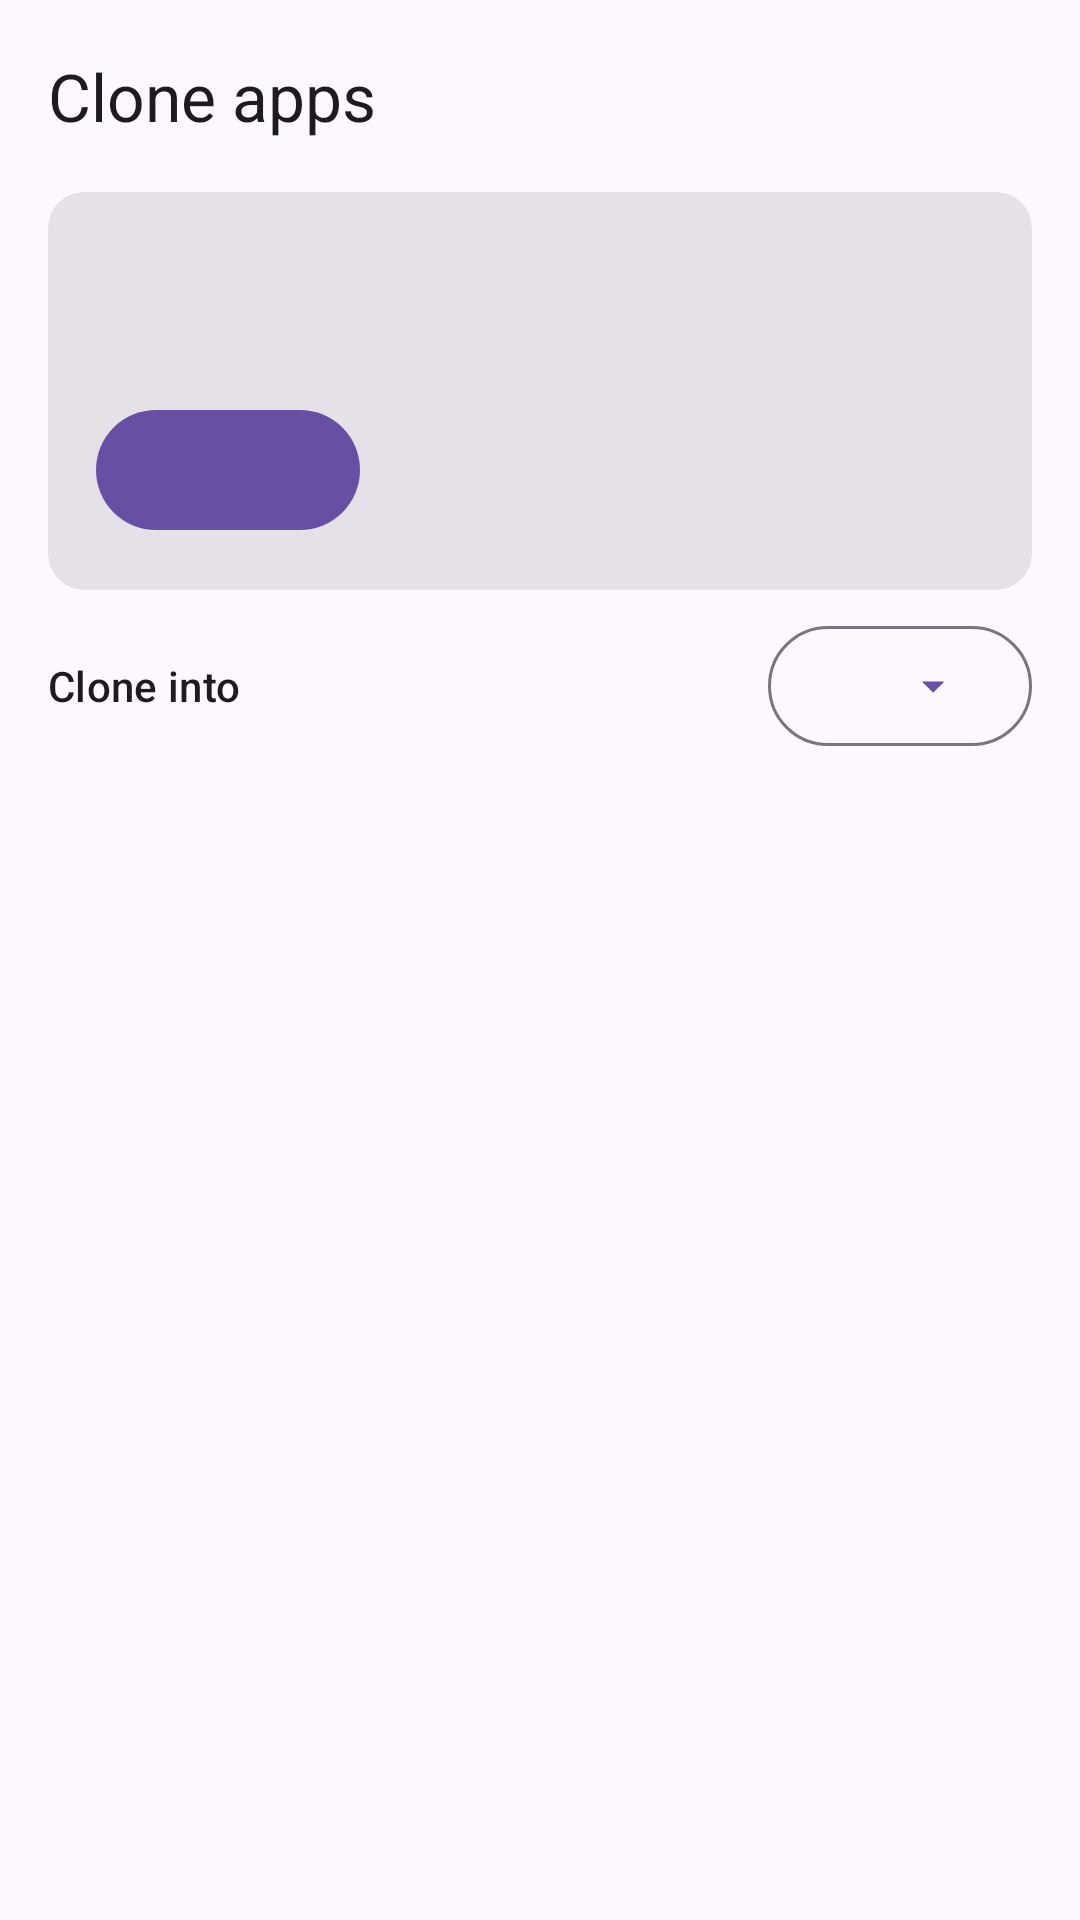

Icons on this 1080px×1920px Android screen, each with its box as (x1, y1, x2, y2):
expand: (768, 626, 1032, 746)
